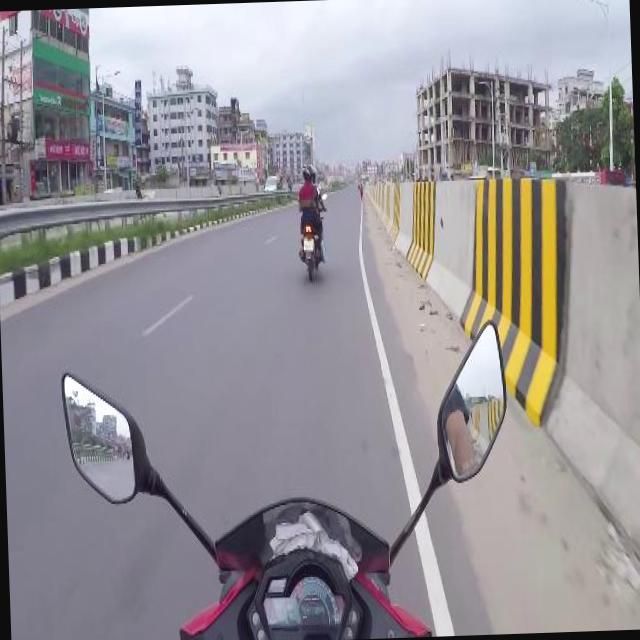bus: (540, 168, 627, 186)
motorcycle: (57, 310, 515, 640), (296, 161, 332, 278)
truck: (262, 174, 284, 192)
